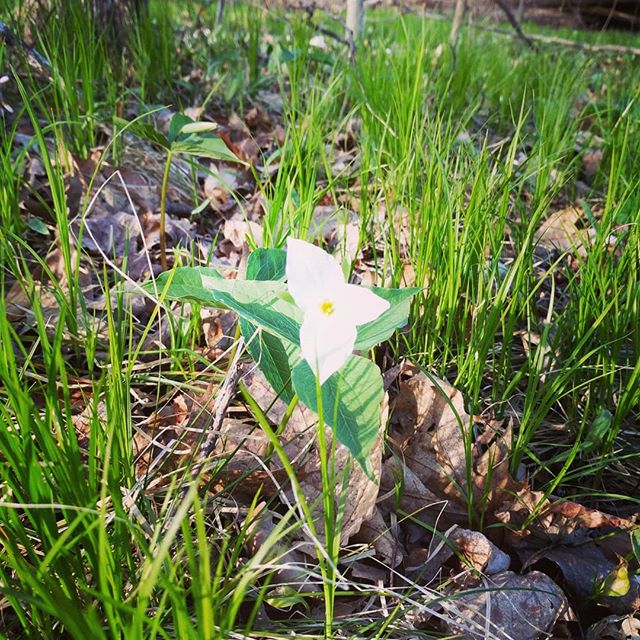flowers: (173, 178, 507, 505)
vegetation: (1, 1, 640, 640)
